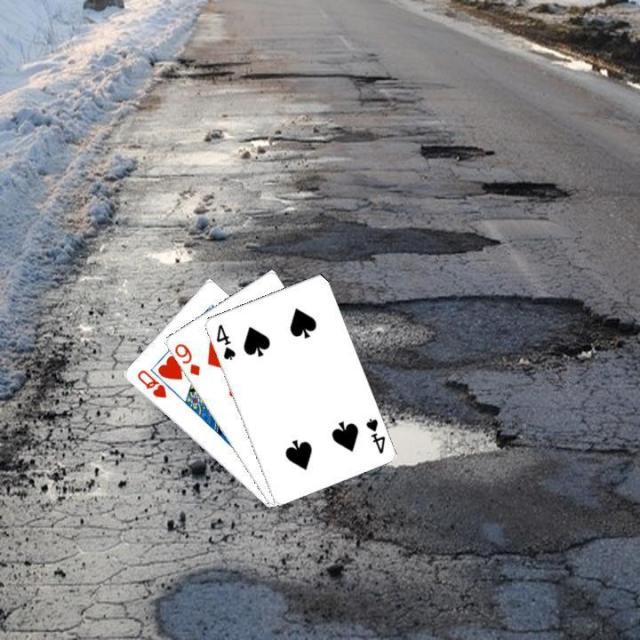4S: (212, 320, 238, 362), (362, 414, 386, 455)
9D: (170, 340, 202, 378)
QH: (132, 366, 168, 400)
